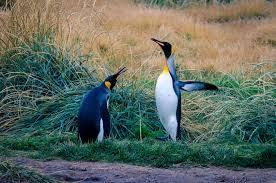king: (143, 33, 209, 154), (77, 62, 132, 154)
